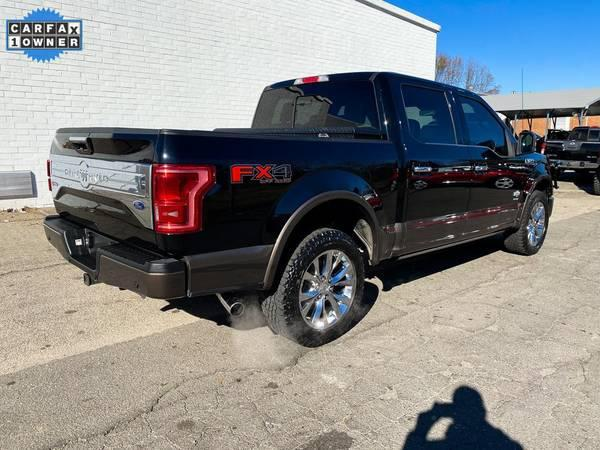Front_Right_Door: (461, 145, 529, 245)
Front_Right_Window: (456, 91, 525, 154)
Rear_Bumper: (41, 216, 188, 298)
Rear_Fender: (152, 126, 401, 288)
Rear_Right_Door: (397, 142, 470, 258)
Rear_Right_Window: (397, 84, 467, 144)
Rear_Windshield: (248, 72, 381, 141)
Right_Taillight: (152, 159, 217, 230)
Roof: (368, 71, 518, 149)
Tailgate: (49, 125, 157, 249)
Wheel: (268, 229, 373, 351), (506, 189, 552, 255)
